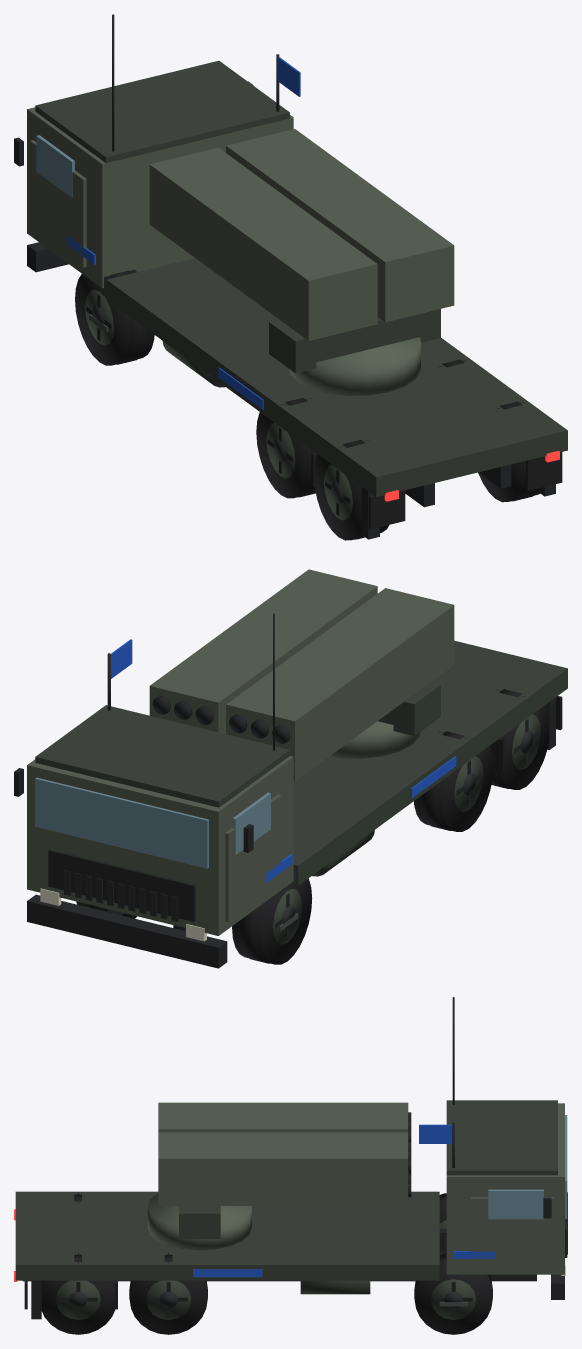
File: MLRS_Blue.fbx
3 views of the same model, one above another, from view 1: azimuth 30°, elevation 25°; view 2: azimuth 150°, elevation 25°; view 3: azimuth 270°, elevation 25° (orthographic). The views are drawn at different scales.
Parts seen in each view (by area): view 1: Platform, Pod0, Pod1, CabRoof, Cab, LauncherCradle, LauncherBase, DoorL1Panel, TyreL1, TyreL2, TyreL3, DoorL1Window (+8 smaller); view 2: Pod0, Platform, Cab, CabRoof, Pod1, Windshield, Bumper, GrilleFront, DoorL1Panel, TyreL1, TyreL2, LauncherCradle (+10 smaller); view 3: Platform, Pod1, CabRoof, Pod0, Cab, DoorR1Panel, LauncherBase, TyreR1, TyreR2, TyreR3, DoorR1Window, LauncherCradle (+8 smaller).
Part boxes in pixels (<box>): Platform: <box>106,258,567,497</box>; Pod0: <box>149,147,377,340</box>; Pod1: <box>226,129,454,322</box>; CabRoof: <box>35,60,289,163</box>; Cab: <box>27,107,293,288</box>; LauncherCradle: <box>269,309,440,373</box>; LauncherBase: <box>289,337,420,395</box>; DoorL1Panel: <box>30,140,86,267</box>; TyreL1: <box>75,269,154,365</box>; TyreL2: <box>256,398,311,498</box>; TyreL3: <box>315,440,389,540</box>; DoorL1Window: <box>36,135,74,197</box>; Pod0: <box>226,588,454,781</box>; Platform: <box>293,640,567,885</box>; Cab: <box>27,756,293,935</box>; CabRoof: <box>35,705,289,807</box>; Pod1: <box>149,569,377,734</box>; Windshield: <box>35,777,208,868</box>; Bumper: <box>27,894,227,968</box>; GrilleFront: <box>48,849,195,921</box>; DoorL1Panel: <box>225,794,281,921</box>; TyreL1: <box>232,868,312,964</box>; TyreL2: <box>414,731,493,831</box>; LauncherCradle: <box>378,682,440,735</box>; Platform: <box>15,1191,439,1280</box>; Pod1: <box>158,1132,408,1205</box>; CabRoof: <box>446,1100,557,1175</box>; Pod0: <box>158,1102,408,1132</box>; Cab: <box>446,1103,564,1274</box>; DoorR1Panel: <box>471,1197,554,1267</box>; LauncherBase: <box>147,1193,251,1250</box>; TyreR1: <box>414,1253,492,1334</box>; TyreR2: <box>129,1252,207,1334</box>; TyreR3: <box>40,1252,115,1334</box>; DoorR1Window: <box>488,1189,543,1219</box>; LauncherCradle: <box>179,1206,220,1238</box>.
Size of the model in its own units: 306 by 797 by 430.
